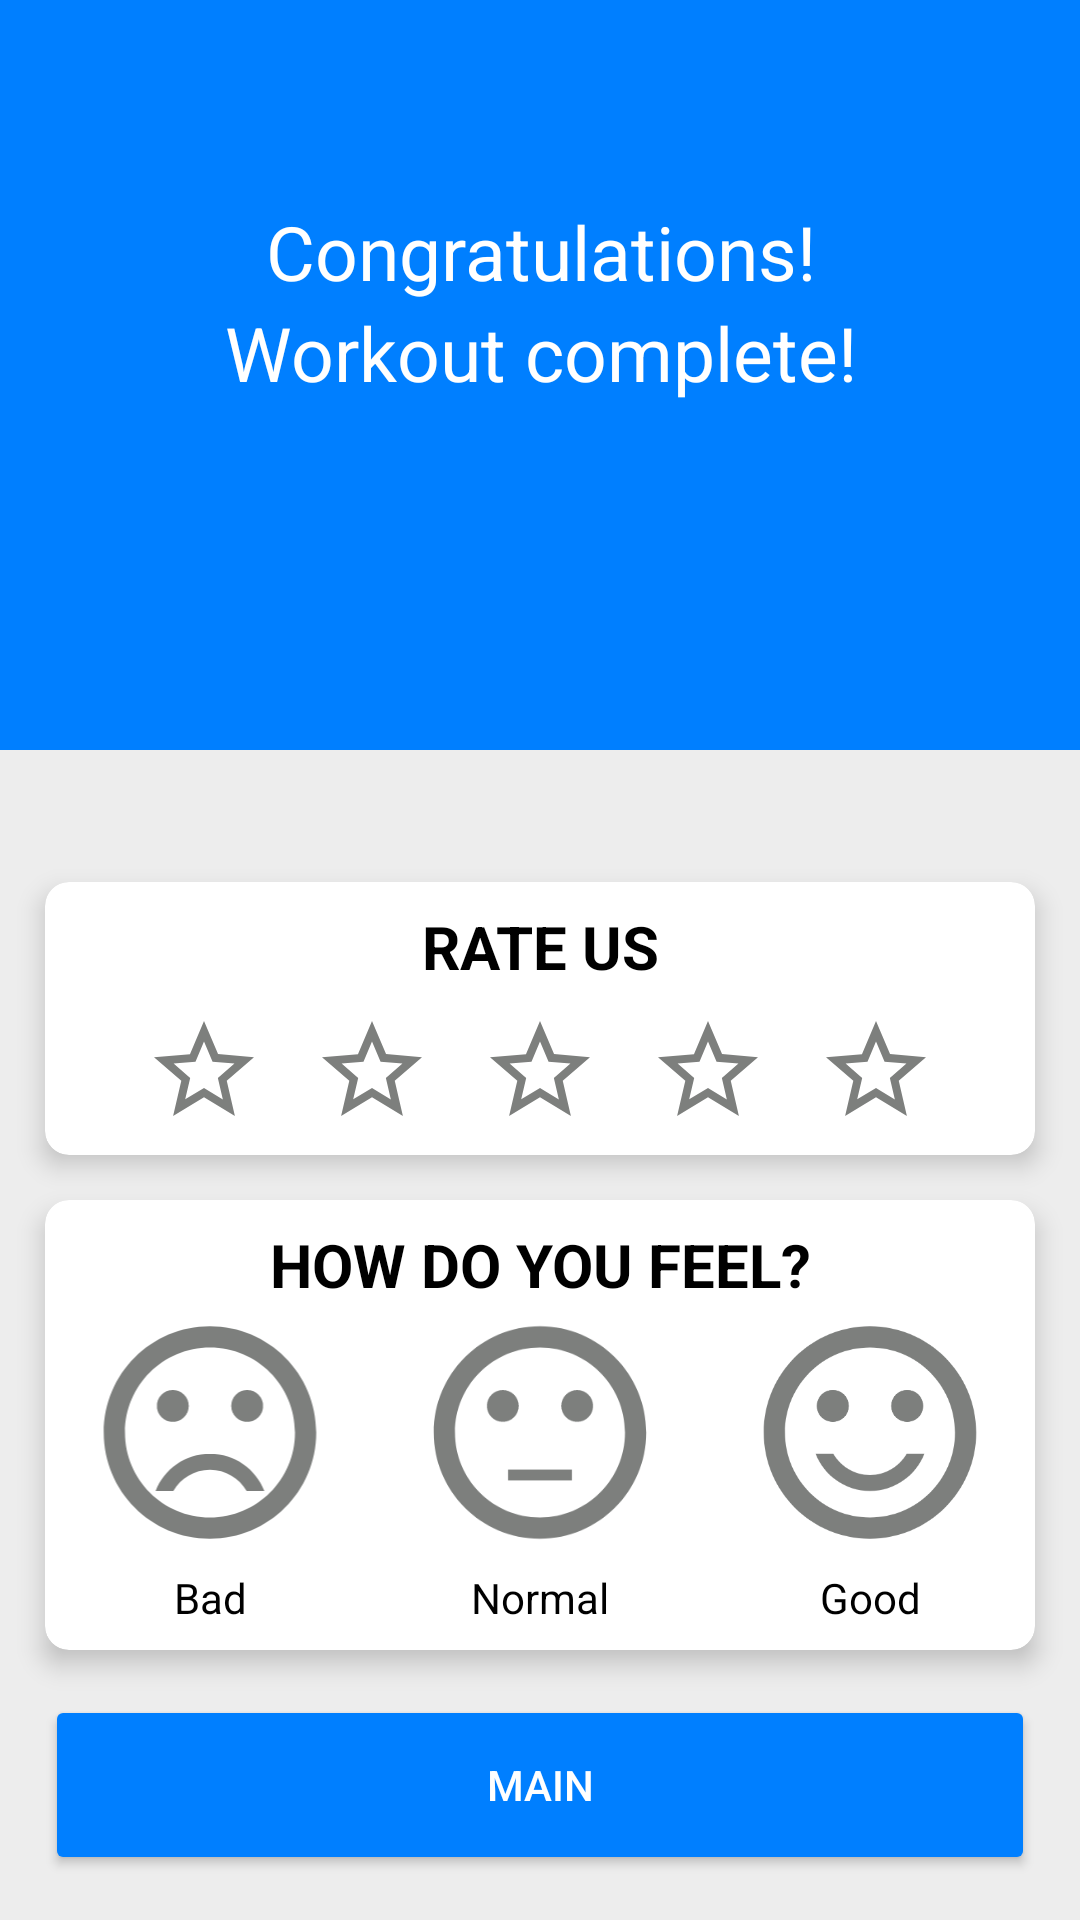

Screen size 1080*1920. Icon name, then its box in pixels as box(x1, y1, x2, y2):
neutral: box(433, 1326, 647, 1539)
smile: box(763, 1326, 977, 1539)
star: box(154, 1021, 254, 1116), box(322, 1021, 422, 1116), box(490, 1021, 590, 1116), box(658, 1021, 758, 1116), box(826, 1021, 926, 1116)
